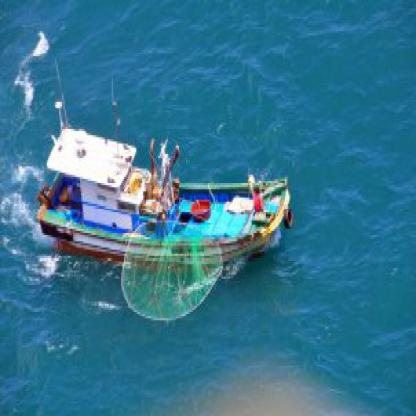fish-b: (26, 29, 305, 281)
